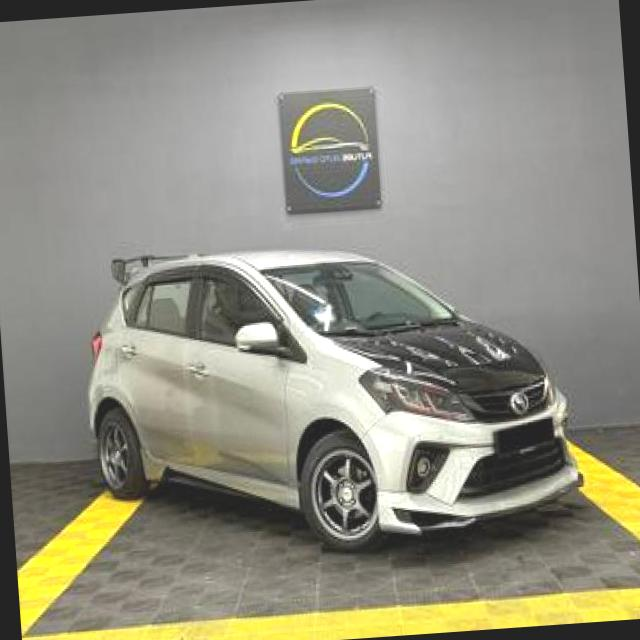PeroduaMyvi: (76, 221, 588, 569)
